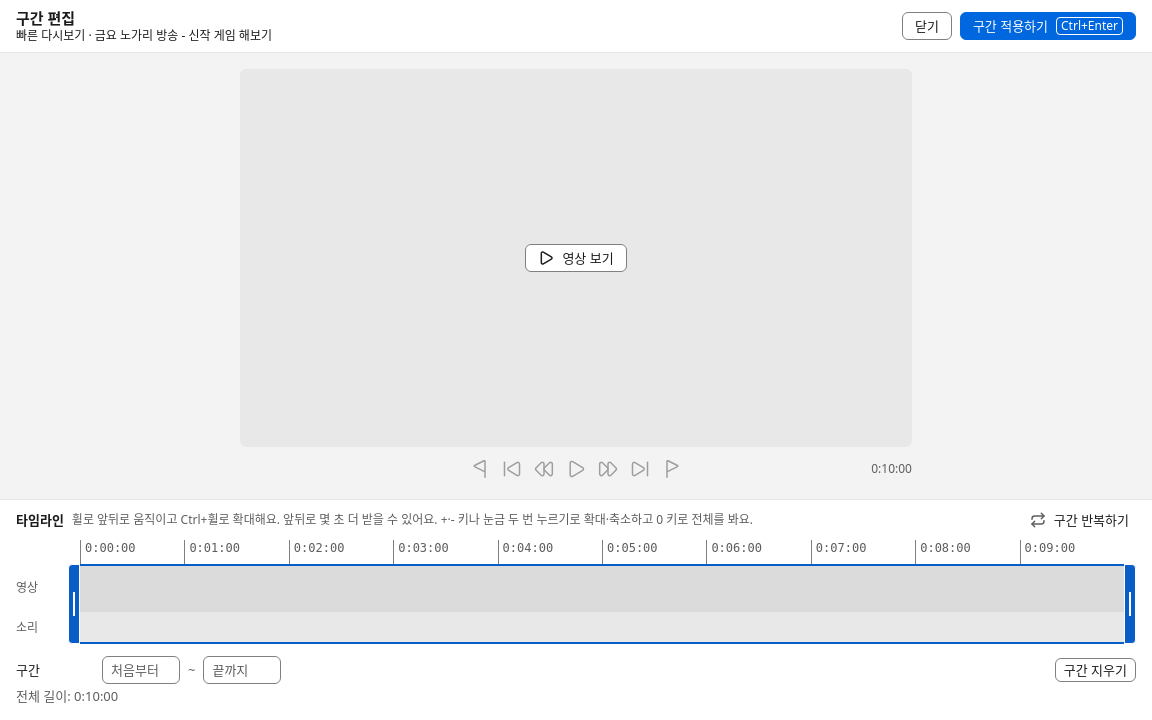
Test case: 초안·적용(RE2~RE6) › 조합 중에는 오류 칸을 전체 선택하지 않는다
Type "abc" into the field named "시작 시각". click: (141, 670)
box: top-left (102, 656), bottom-right (180, 684)
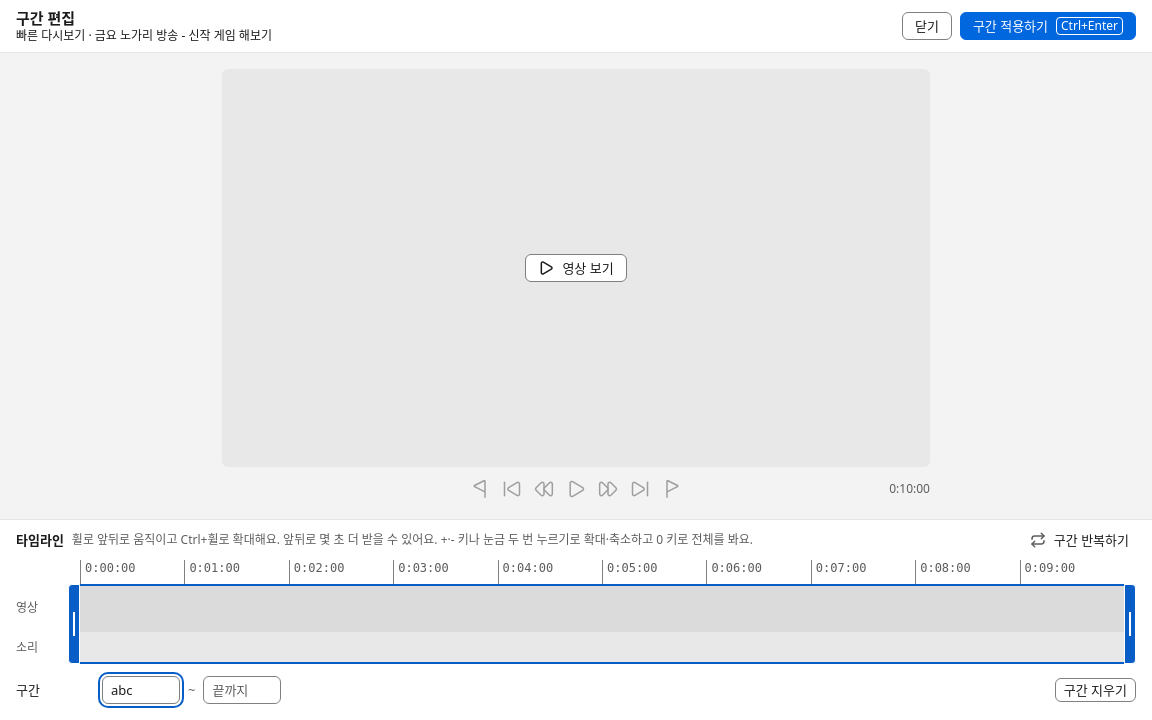
Click the button "구간 적용하기 Ctrl+Enter". click: (1048, 26)
box: top-left (960, 12), bottom-right (1136, 40)
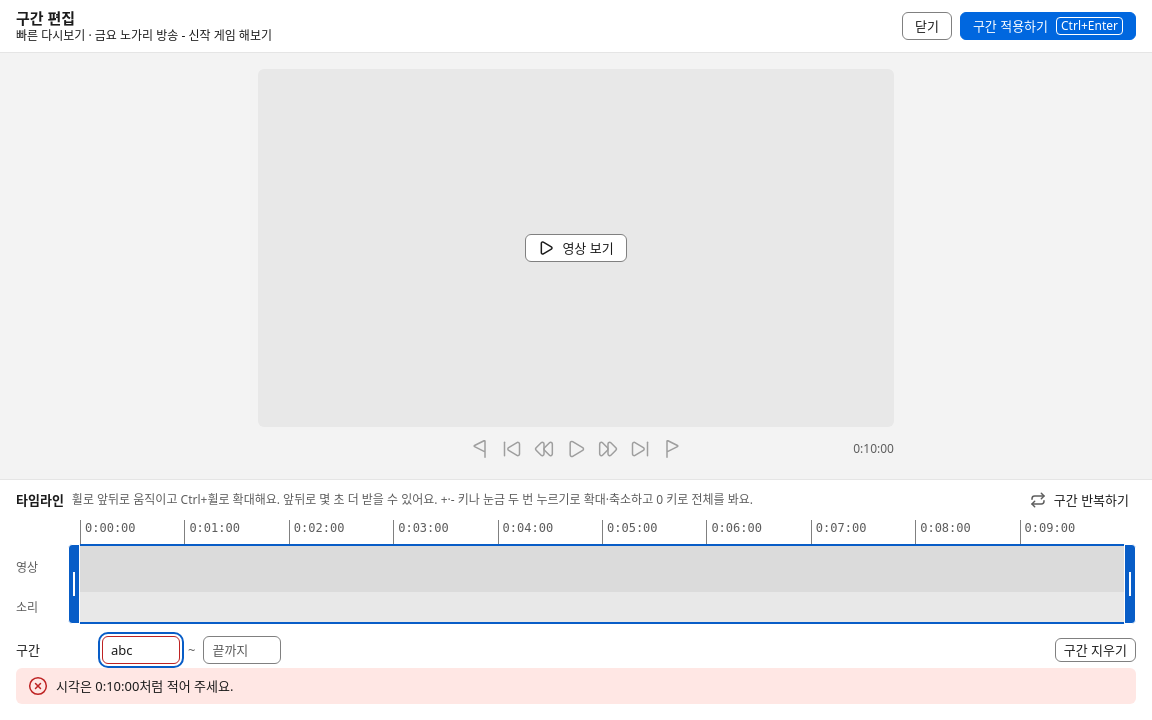
Result: the message "시각은 0:10:00처럼 적어 주세요." is shown at top-left (56, 677), bottom-right (233, 695)
